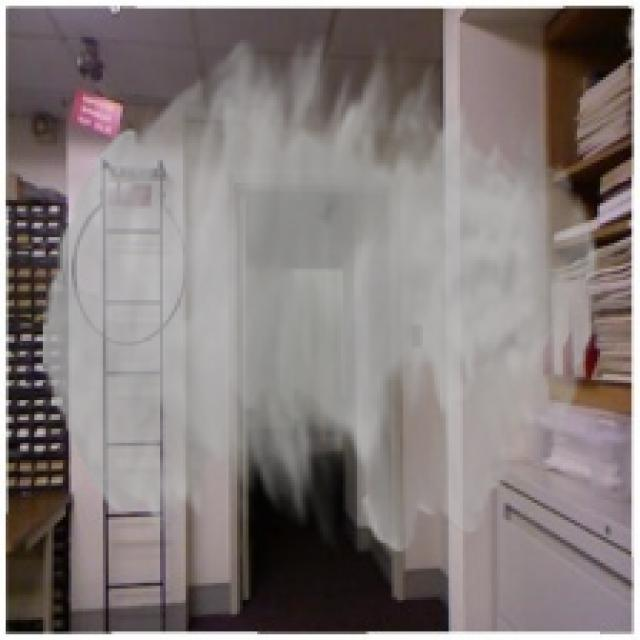smoke: (43, 34, 600, 552)
